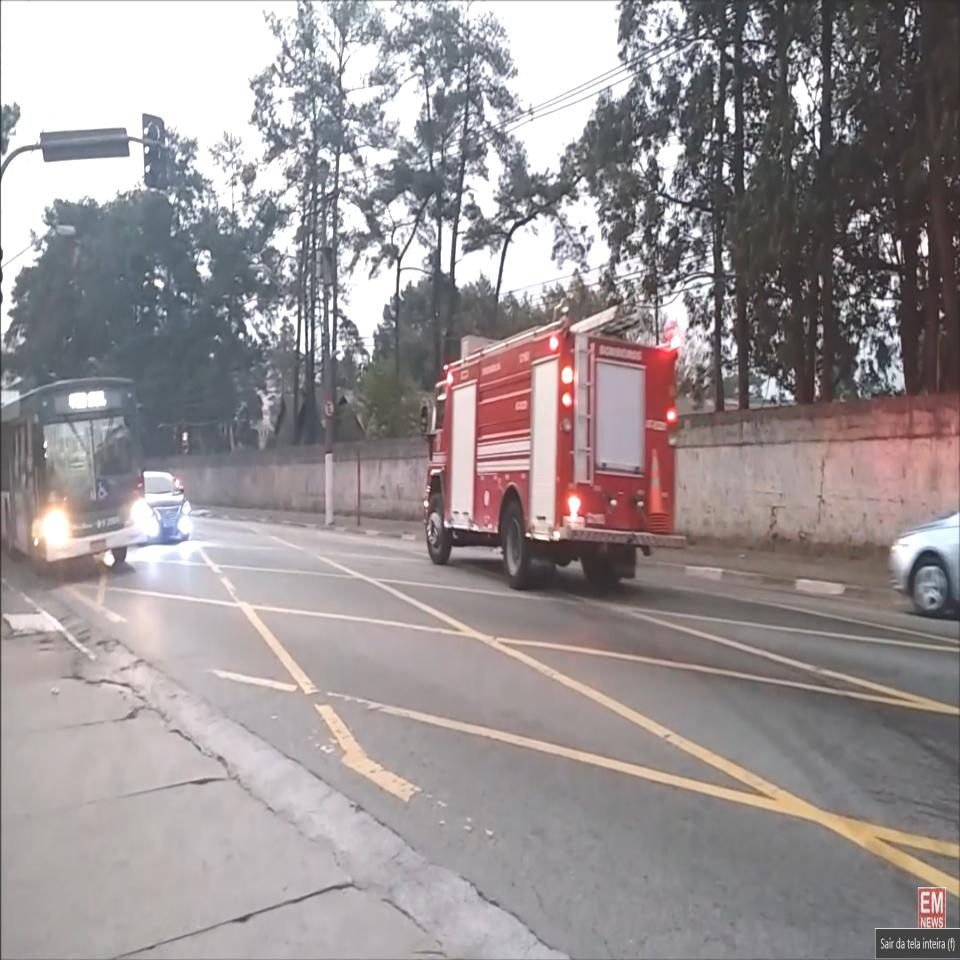bombeiro: (420, 305, 694, 590)
